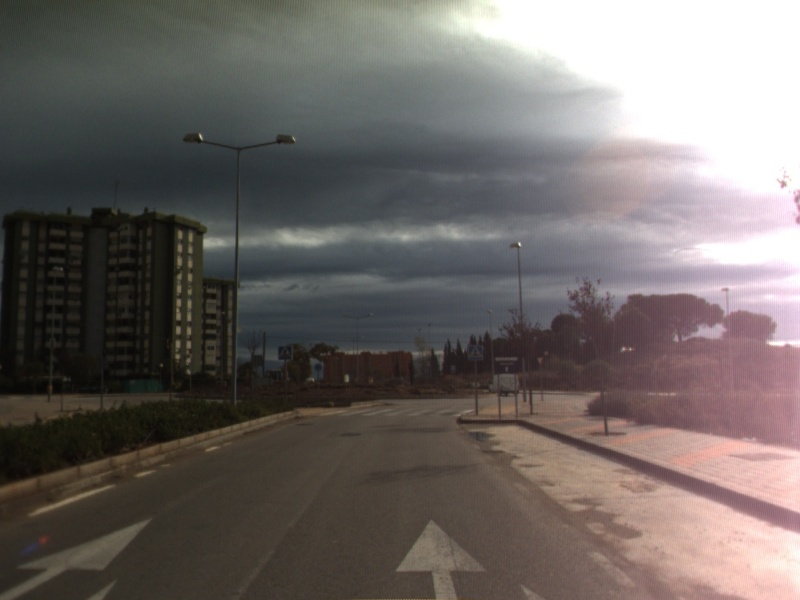STRAIGHT: (1, 512, 158, 600), (392, 516, 490, 600)
